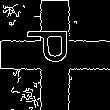P_E: (30, 37, 80, 73)
